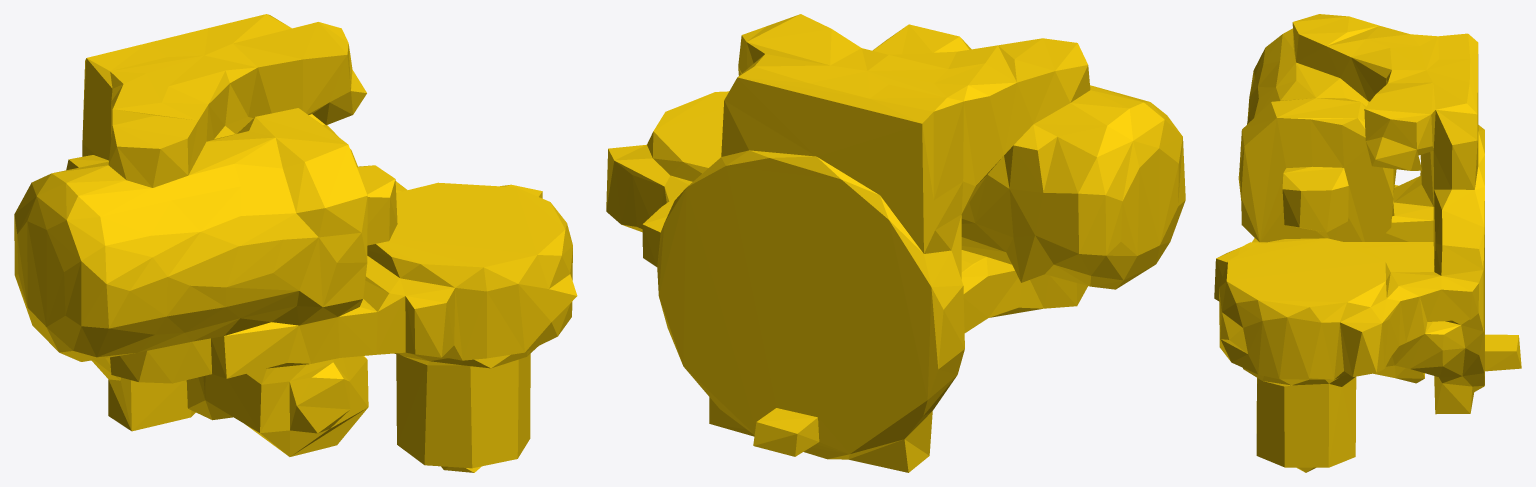
3 views of the same model, side by side, from view 1: azimuth 30°, elevation 25°; view 2: azimuth 150°, elevation 25°; view 3: azimuth 270°, elevation 25° (orthographic). The views are drawn at different scales.
Parts seen in each view (by area): view 1: Node_0x7f98e9894f00; view 2: Node_0x7f98e9894f00; view 3: Node_0x7f98e9894f00.
Part boxes in pixels (box(x1,y1,x2,y2)): Node_0x7f98e9894f00: box(14, 14, 577, 472); Node_0x7f98e9894f00: box(606, 14, 1185, 472); Node_0x7f98e9894f00: box(1214, 14, 1521, 472).
Bounding box in the file's own units: 1.08 × 0.782 × 0.6787.
